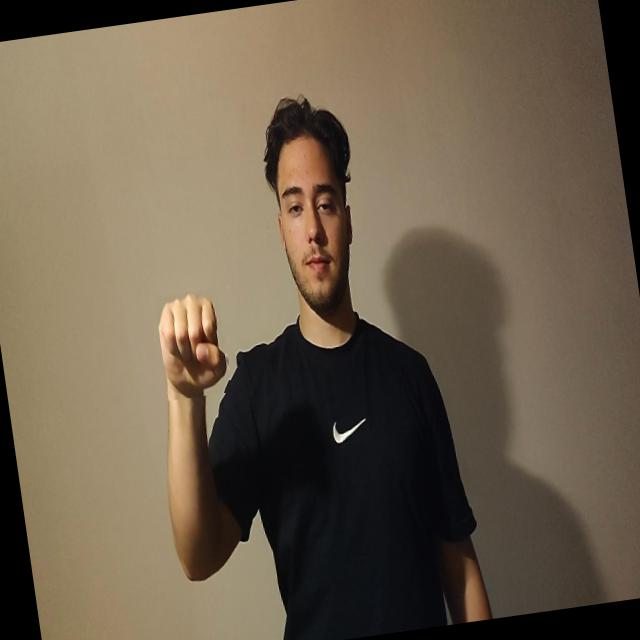yes: (154, 288, 232, 401)
